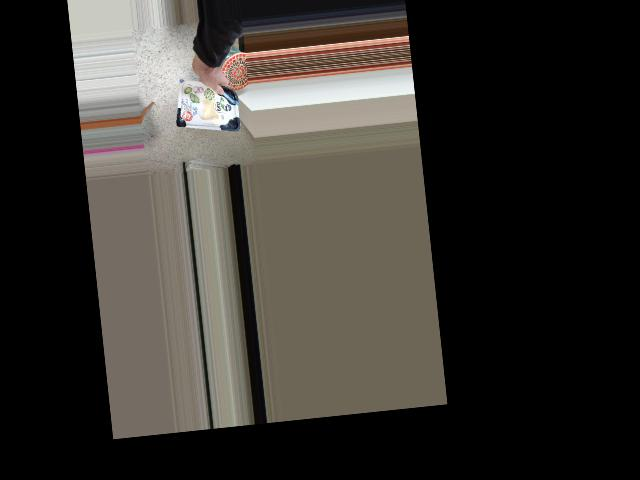cheese: (177, 66, 229, 120)
